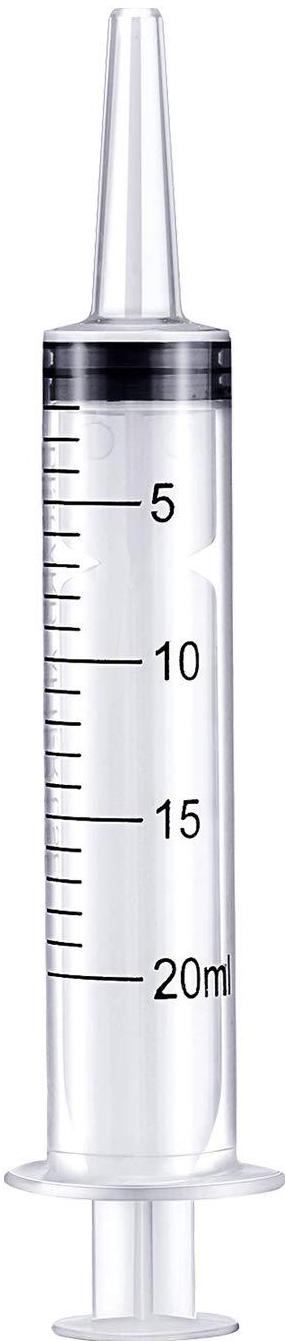syringes: (0, 1, 285, 1341)
